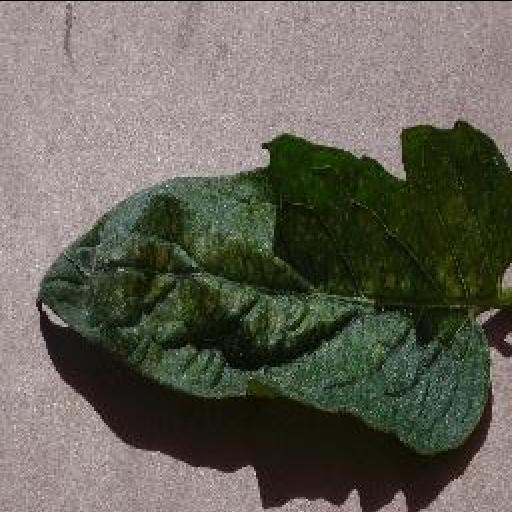disease_tomato: (34, 122, 512, 456)
